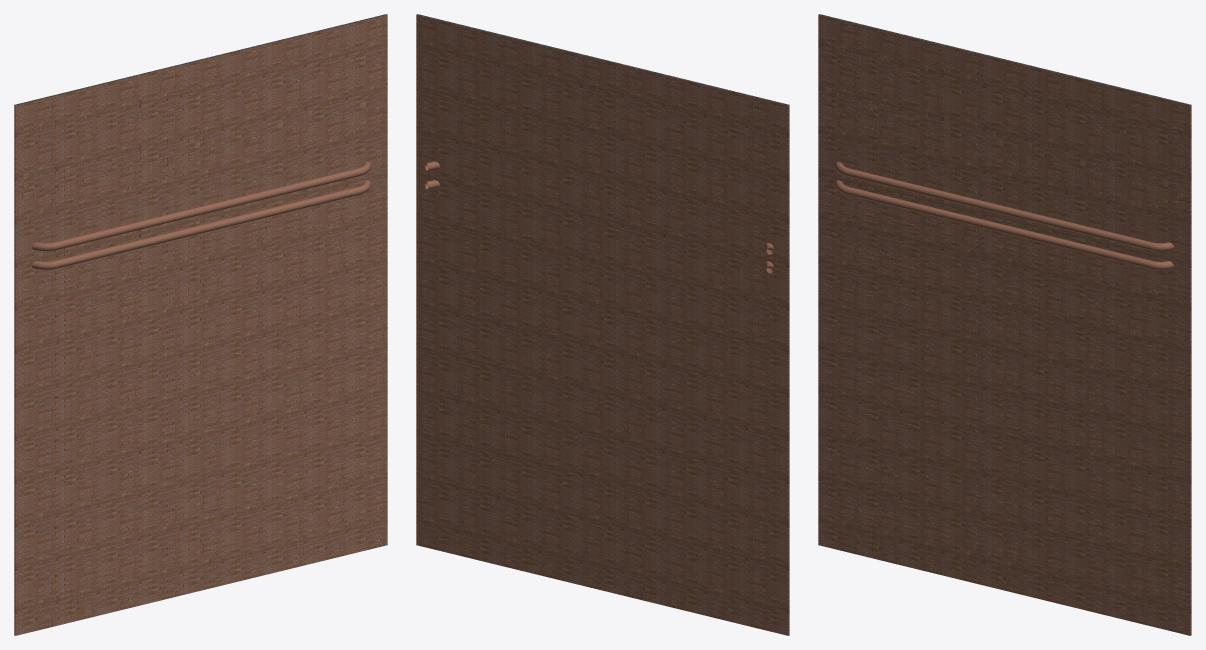
Rendered from Tutorial_Model_Structure_BS1Wall_3.fbx.
3 views of the same model, side by side, from view 1: azimuth 30°, elevation 25°; view 2: azimuth 150°, elevation 25°; view 3: azimuth 330°, elevation 25° (orthographic).
Visible parts, largest first — view 1: Wall_3, Wall_3_Pipe_2, Wall_3_Pipe_1; view 2: Wall_3; view 3: Wall_3, Wall_3_Pipe_2, Wall_3_Pipe_1.
Boxes of the visible parts, bbox=[...] form: Wall_3: bbox=[14, 14, 387, 635]; Wall_3_Pipe_2: bbox=[32, 180, 370, 269]; Wall_3_Pipe_1: bbox=[32, 162, 370, 251]; Wall_3: bbox=[416, 14, 789, 635]; Wall_3: bbox=[818, 14, 1191, 635]; Wall_3_Pipe_2: bbox=[834, 180, 1173, 269]; Wall_3_Pipe_1: bbox=[834, 162, 1173, 251].
Size of the model in its own units: 709 by 965 by 43.97.
Materials: 2 (2 with a texture image).
